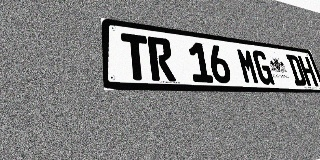1: (187, 41, 214, 83)
6: (206, 44, 232, 83)
D: (286, 54, 307, 86)
G: (251, 50, 275, 85)
H: (297, 56, 319, 86)
M: (236, 48, 260, 84)
R: (147, 36, 176, 81)
T: (121, 33, 151, 81)
